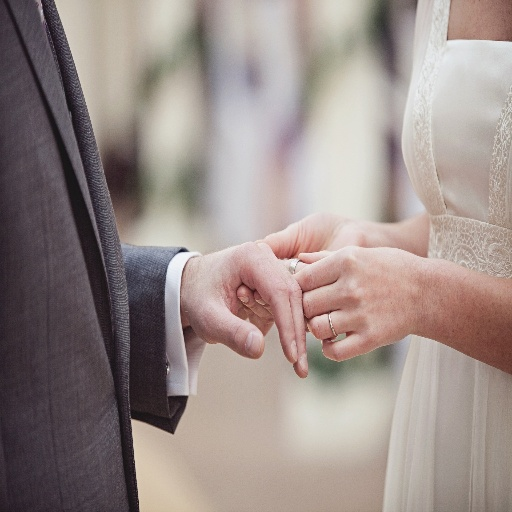hand: (180, 237, 307, 377), (234, 208, 365, 323), (291, 242, 414, 362)
